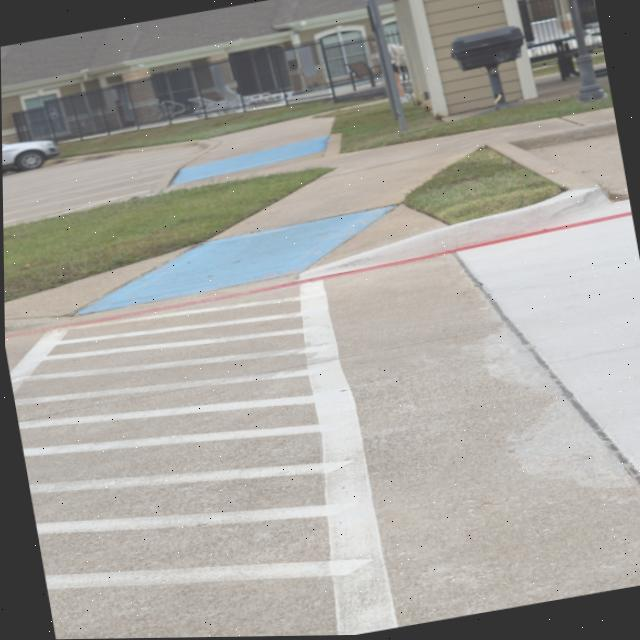Automobile: (2, 140, 59, 172)
Obstacle: (451, 28, 523, 105), (568, 0, 605, 105), (373, 6, 395, 92), (391, 104, 406, 132)
Road: (4, 136, 640, 639), (2, 145, 202, 226)
Sidewalk: (4, 109, 615, 330)
